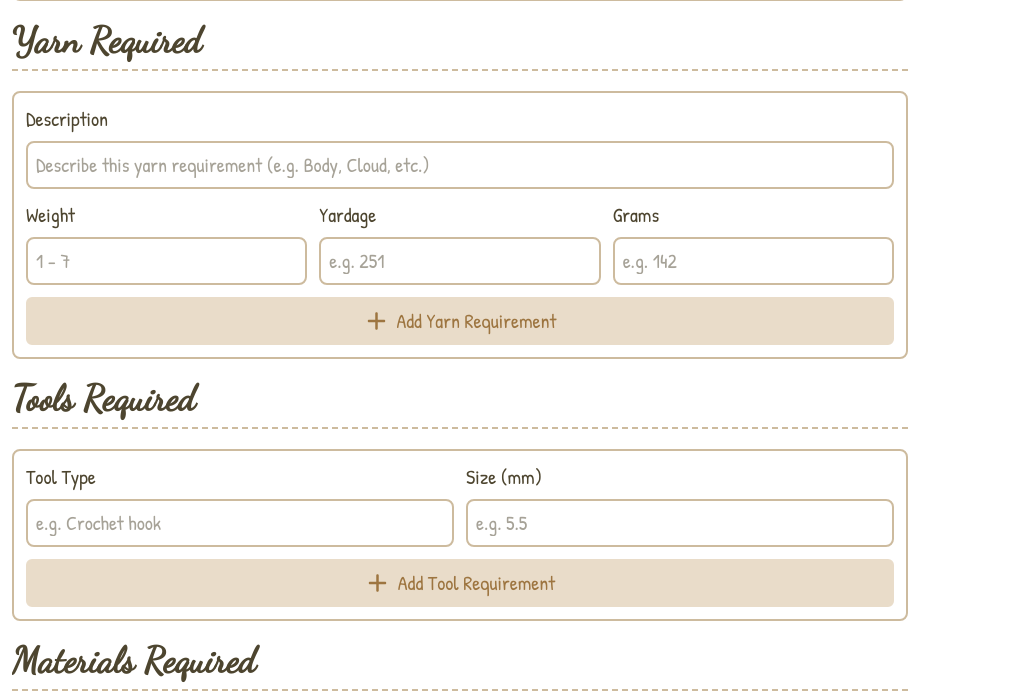
Test case: AdminAddPattern yarn requirements › validates yarn without validating the pattern fields
(page scrolled)
Click the button "Add Yarn Requirement" at (460, 321), box [26,297,894,345]
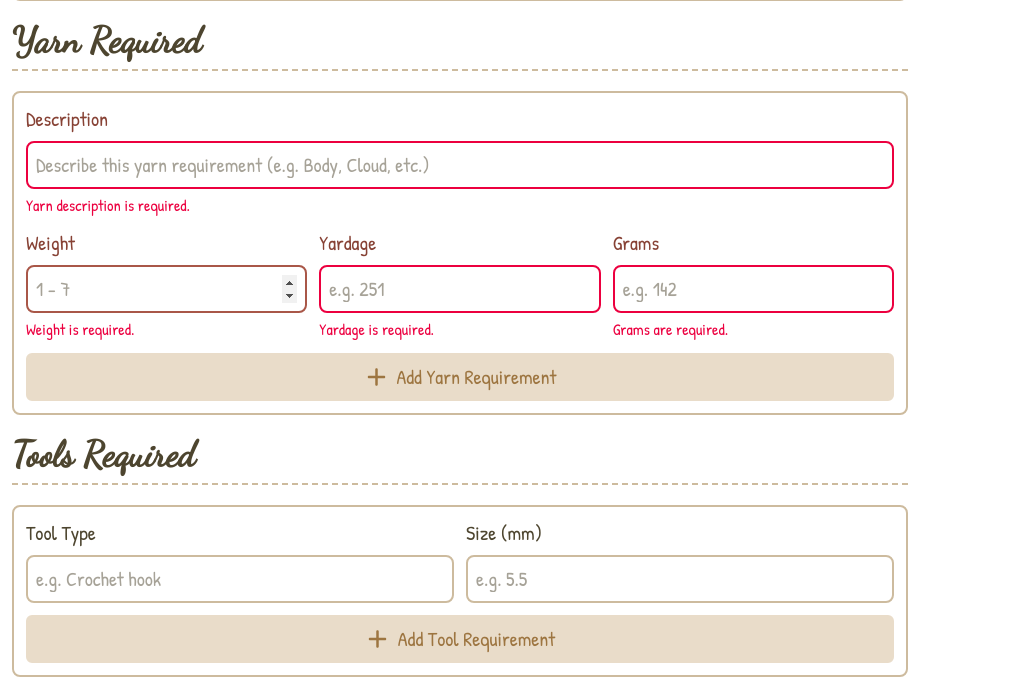
Expected: the text "Weight is required." is shown, [26,318,134,340]
